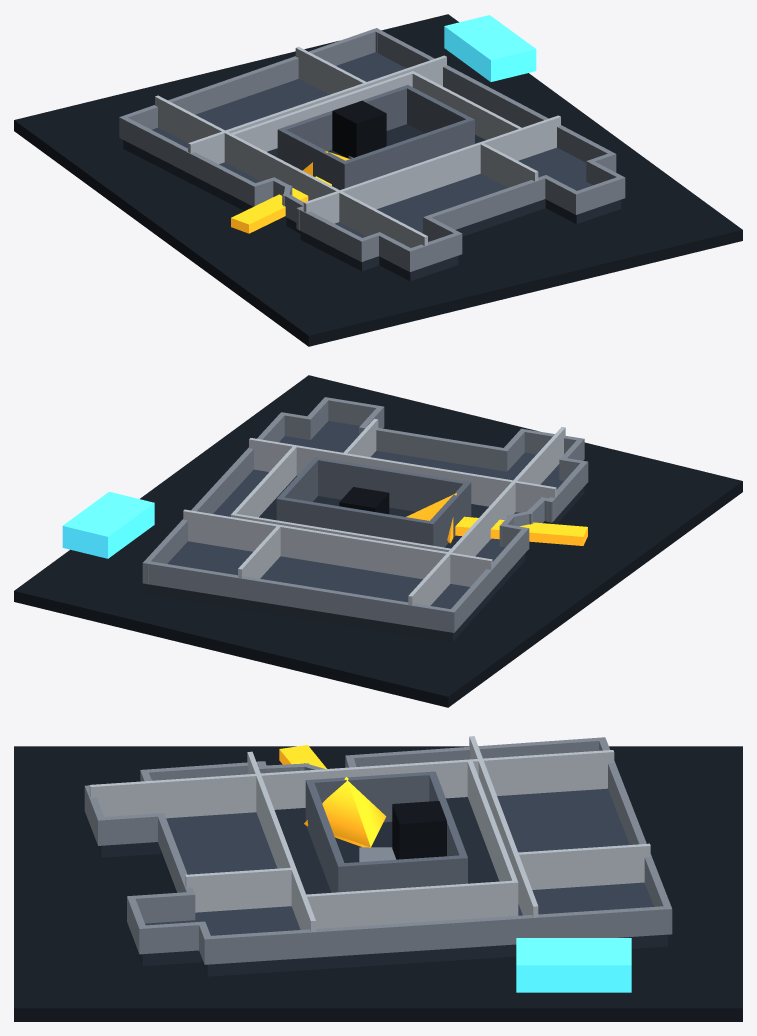
The picture shows the model from 3 angles, top to bottom: view 1: azimuth 30°, elevation 25°; view 2: azimuth 150°, elevation 25°; view 3: azimuth 270°, elevation 25°; orthographic projection. The views are drawn at different scales.
Parts seen in each view (by area): view 1: FireSight 1433 Haight St floor 2; view 2: FireSight 1433 Haight St floor 2; view 3: FireSight 1433 Haight St floor 2.
Part boxes in pixels (x1,y1,x2,y2): FireSight 1433 Haight St floor 2: (14,14,742,346); FireSight 1433 Haight St floor 2: (14,375,742,707); FireSight 1433 Haight St floor 2: (14,736,742,1021).
Size of the model in its own units: 0.248 by 0.037 by 0.2916.
